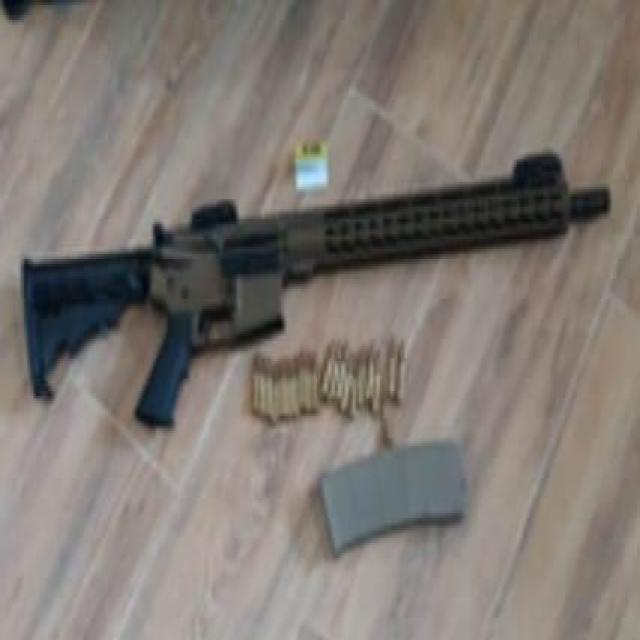weapon: (19, 146, 613, 434)
